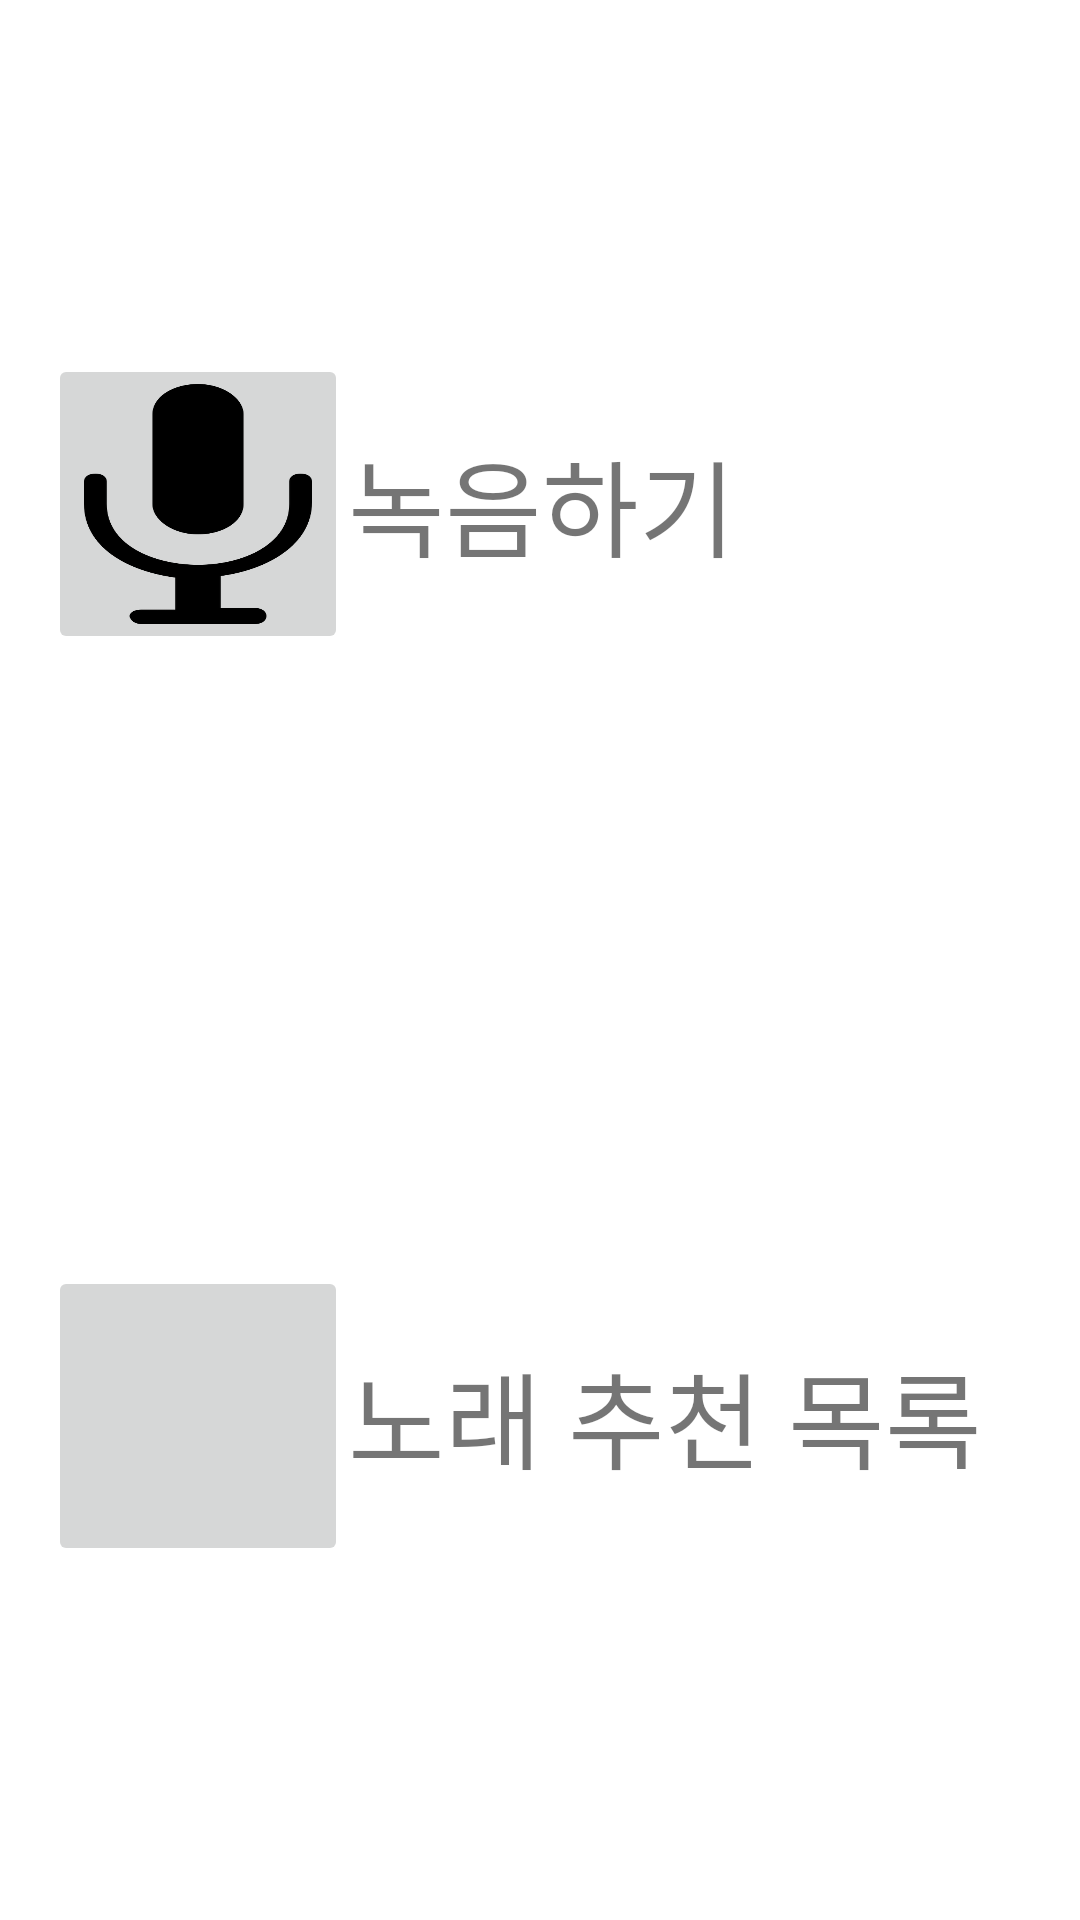

Screen size 1080 x 1920. Icon name, then its center in pixels as (x=x, y=y):
mic recording: (x=198, y=504)
